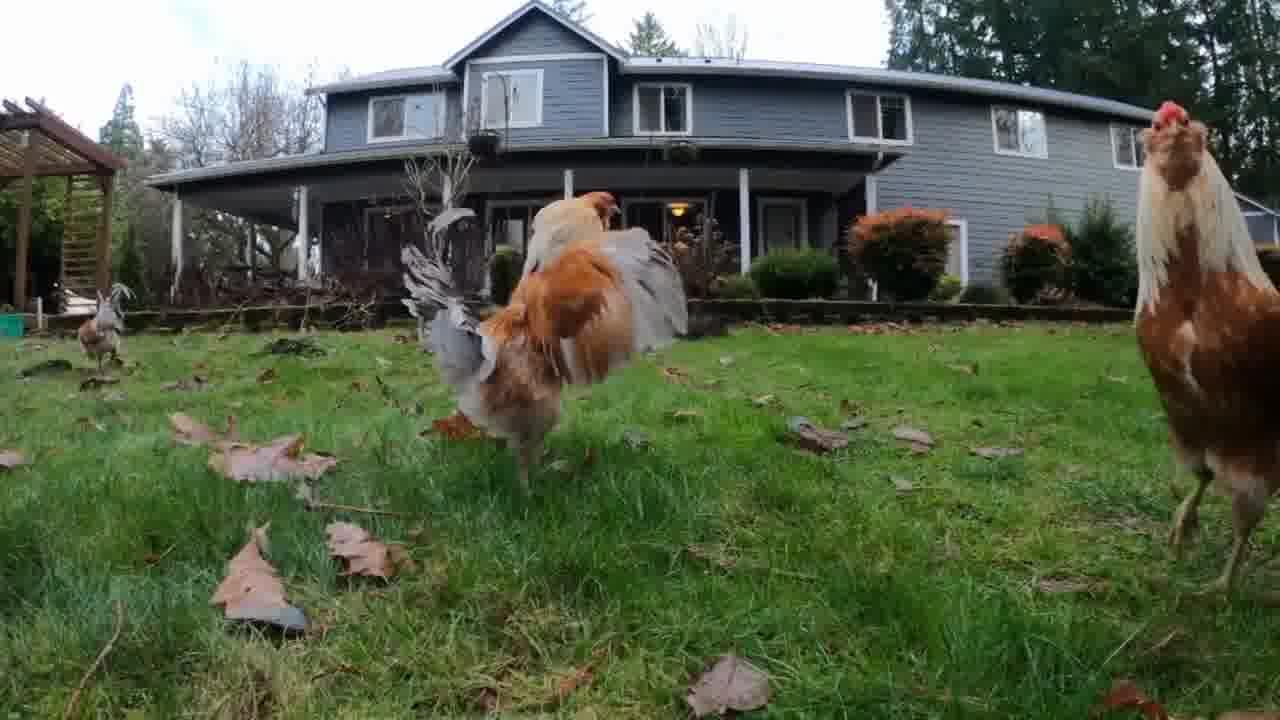Normal: (400, 182, 676, 498), (1110, 80, 1280, 590)
